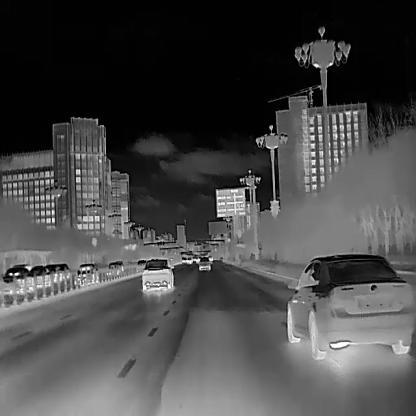car: (286, 253, 415, 360), (142, 259, 174, 290), (2, 267, 30, 292), (42, 263, 71, 286), (74, 263, 100, 286), (23, 265, 44, 290), (198, 256, 210, 270), (107, 262, 119, 275), (137, 259, 147, 272), (116, 260, 124, 271), (187, 256, 193, 264)
